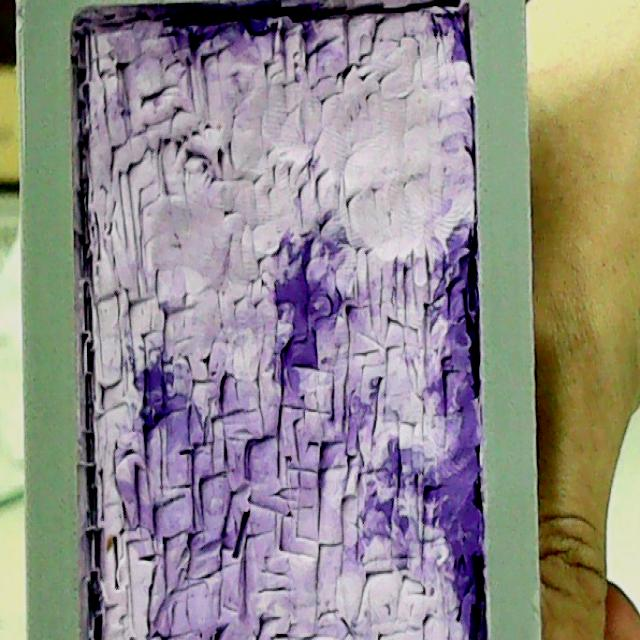block: (8, 0, 542, 640)
